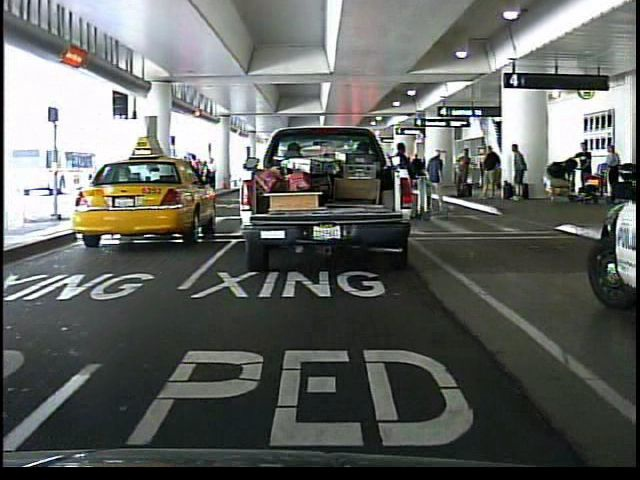person: (386, 137, 429, 223), (422, 146, 448, 216), (598, 142, 624, 207), (573, 141, 599, 201)
